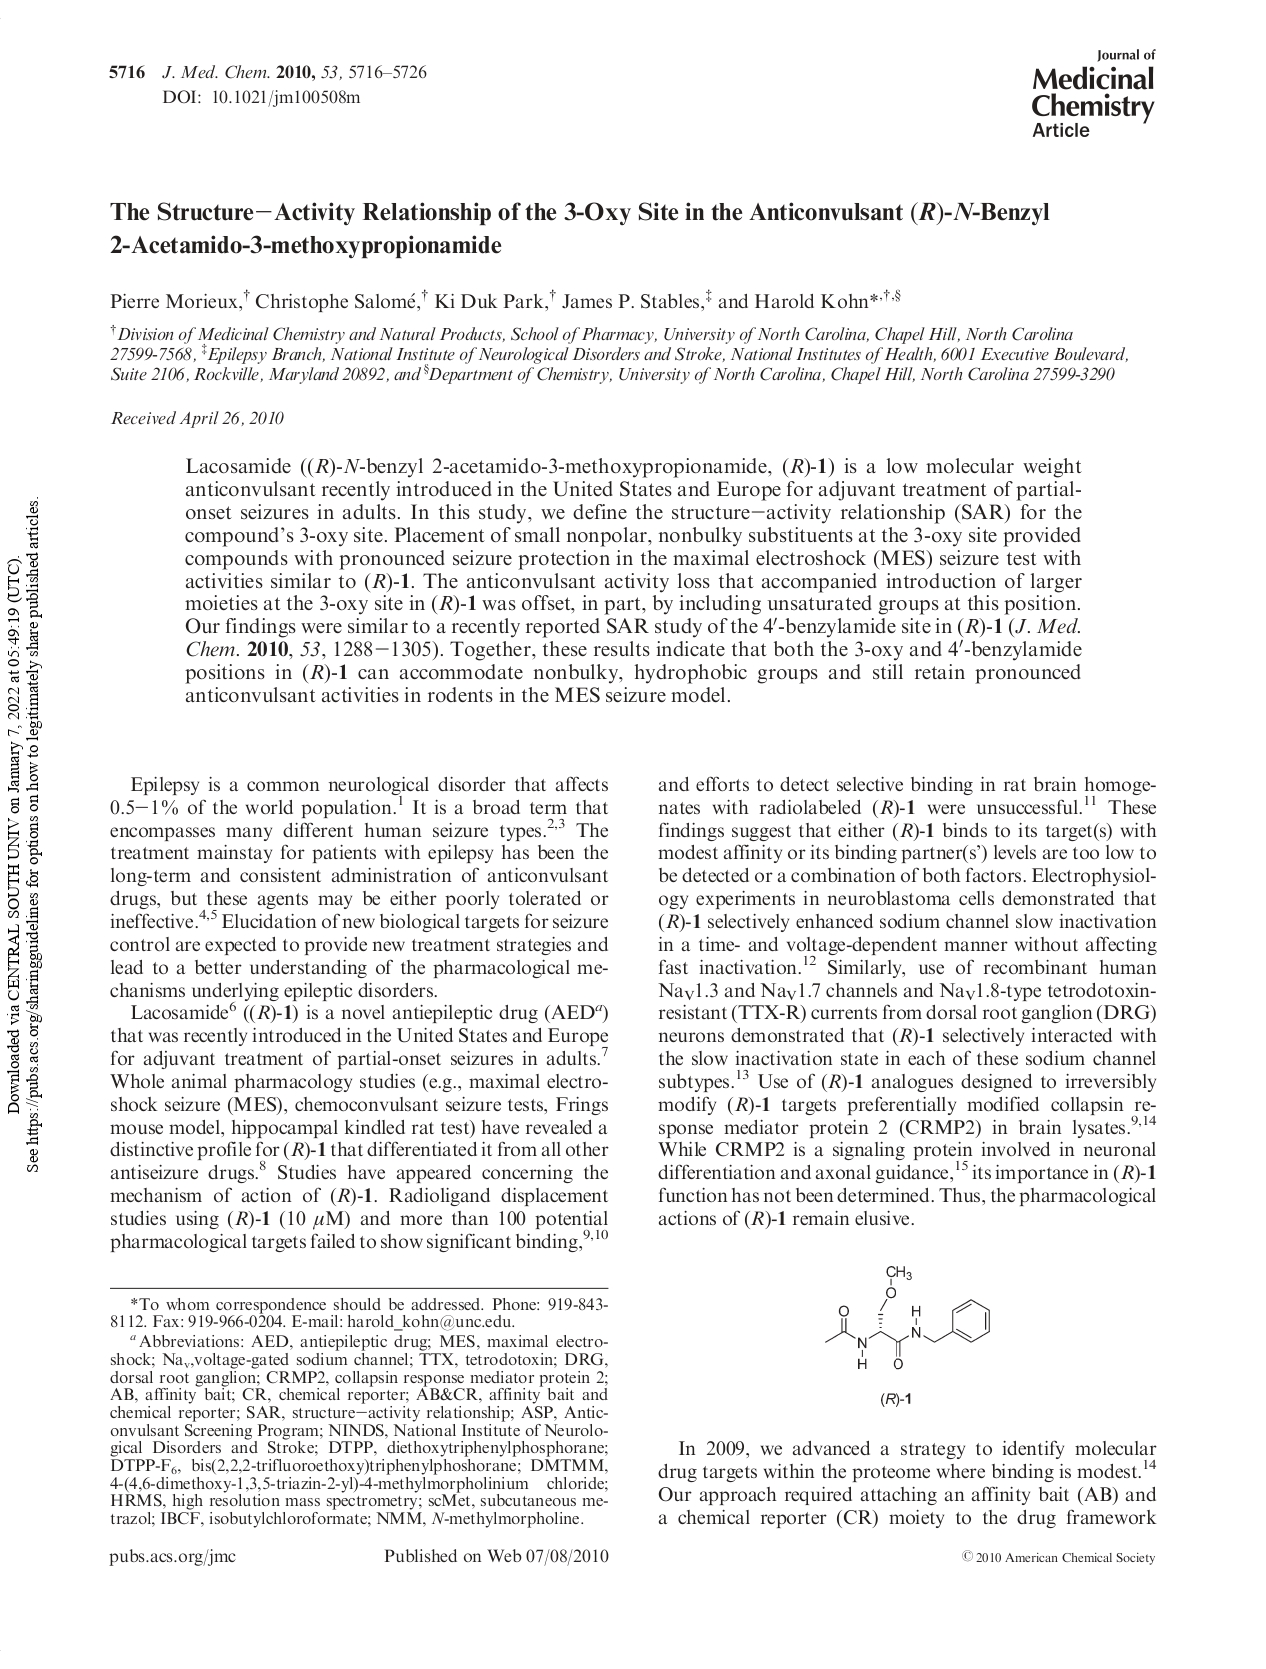exist_molecular: (822, 1262, 993, 1371)
